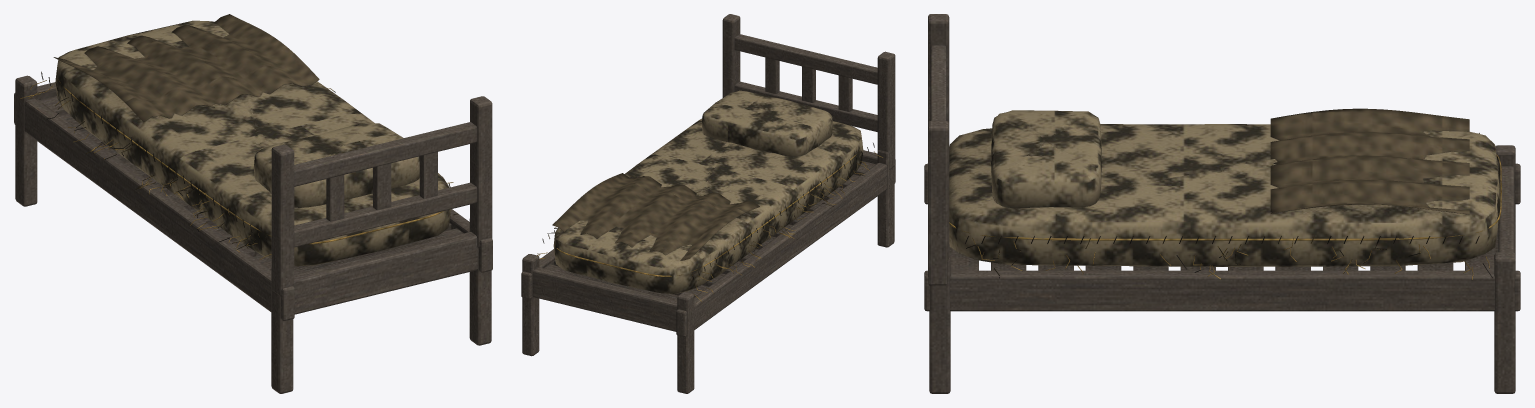
The model's file is cot-detailed.glb.
3 renders of one model, left to right at view 1: azimuth 30°, elevation 25°; view 2: azimuth 150°, elevation 25°; view 3: azimuth 270°, elevation 25°, orthographic. The views are drawn at different scales.
Visible parts, largest first — view 1: cot-detailed; view 2: cot-detailed; view 3: cot-detailed.
Boxes of the visible parts, x1,y1,x2,y2 form: cot-detailed: [14, 14, 492, 393]; cot-detailed: [521, 14, 895, 393]; cot-detailed: [924, 14, 1520, 393].
Size of the model in its own units: 1.03 by 1.04 by 2.1.
1 material, 1 textured.
